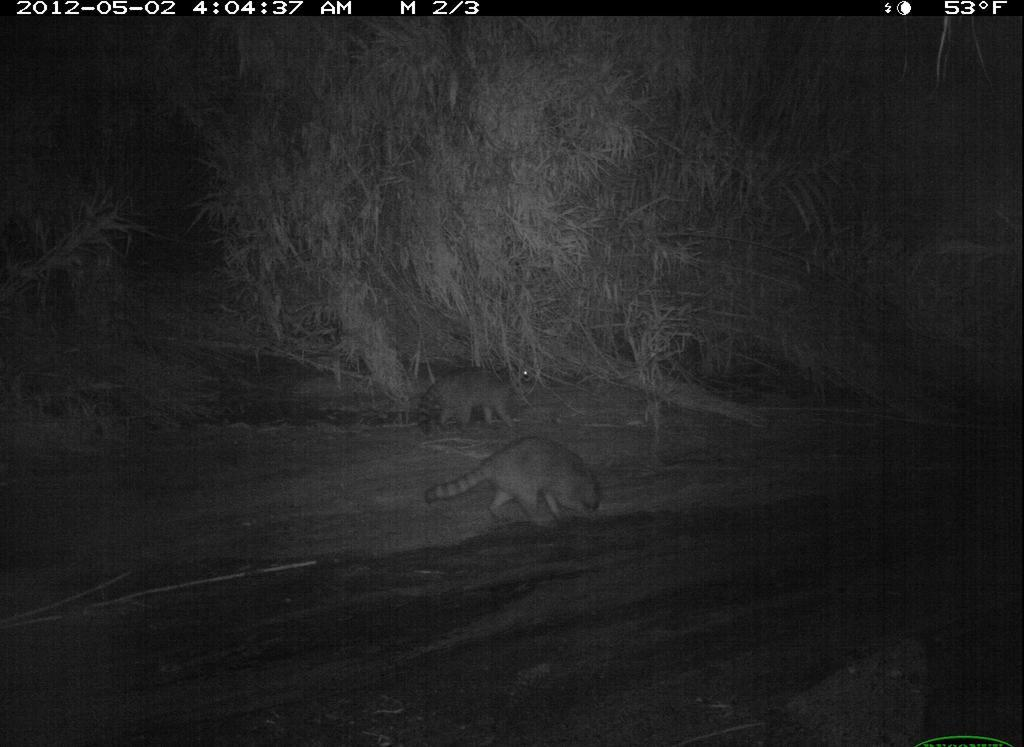raccoon: (419, 428, 620, 547), (409, 351, 543, 434)
